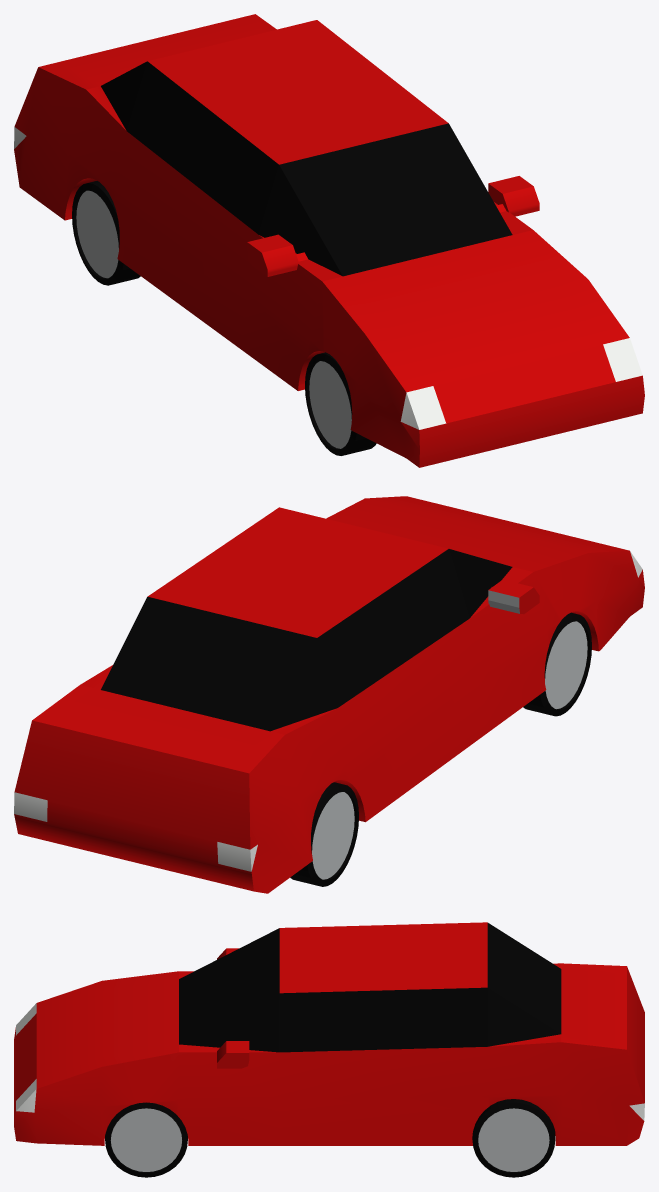
Rendered from CarBigRed.fbx.
3 renders of one model, top to bottom at view 1: azimuth 30°, elevation 25°; view 2: azimuth 150°, elevation 25°; view 3: azimuth 270°, elevation 25°, orthographic. The views are drawn at different scales.
Visible parts, largest first — view 1: Cube, Cylinder.003, Cylinder.002, Cube.002, Cube.001; view 2: Cube, Cylinder.003, Cylinder.002, Cube.002; view 3: Cube, Cylinder, Cylinder.001, Cube.001.
Part boxes in pixels (x1,y1,x2,y2): Cube: (14, 14, 644, 467); Cylinder.003: (72, 181, 140, 285); Cylinder.002: (305, 352, 376, 455); Cube.002: (247, 234, 307, 276); Cube.001: (488, 176, 539, 216); Cube: (14, 496, 644, 893); Cylinder.003: (290, 782, 358, 886); Cylinder.002: (523, 612, 591, 716); Cube.002: (488, 579, 539, 614); Cube: (14, 922, 644, 1145); Cylinder: (472, 1099, 555, 1177); Cylinder.001: (105, 1102, 187, 1177); Cube.001: (217, 1041, 249, 1068).
Size of the model in its own units: 438 by 346 by 1116.
